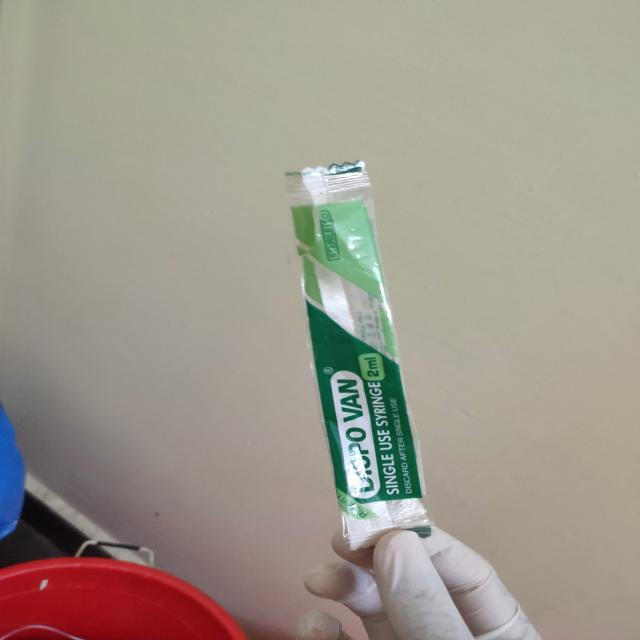B3: (280, 150, 427, 550)
